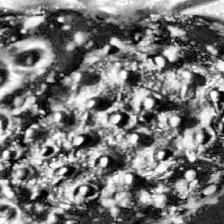Anthracnose Fruit Rot: (0, 27, 224, 208)
